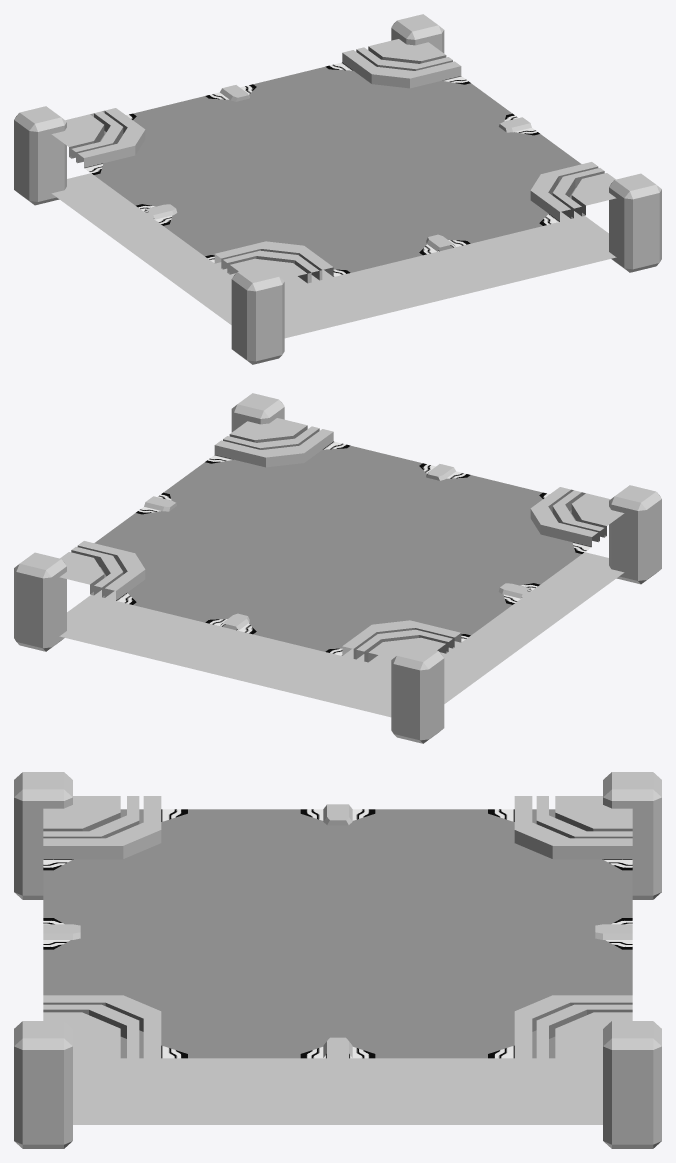
File: Street_03_Cross_Section.fbx
3 views of the same model, one above another, from view 1: azimuth 30°, elevation 25°; view 2: azimuth 150°, elevation 25°; view 3: azimuth 270°, elevation 25° (orthographic). The views are drawn at different scales.
Visible parts, largest first — view 1: Street_03, Street_03_Decal_Text; view 2: Street_03, Street_03_Decal_Text; view 3: Street_03, Street_03_Decal_Text.
Part boxes in pixels (x1,y1,x2,y2): Street_03: [14, 14, 661, 364]; Street_03_Decal_Text: [84, 62, 559, 276]; Street_03: [14, 393, 661, 743]; Street_03_Decal_Text: [116, 441, 591, 655]; Street_03: [14, 772, 661, 1148]; Street_03_Decal_Text: [43, 809, 632, 1058].
Size of the model in its own units: 22 by 4.14 by 22.
